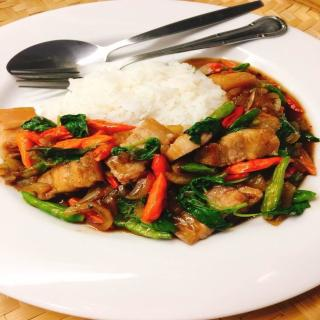carbs: (72, 65, 223, 124)
crispy_pork_rice: (1, 56, 320, 254)
meat: (125, 130, 278, 156), (216, 56, 288, 101), (37, 154, 104, 190), (178, 216, 209, 242), (256, 102, 279, 129), (3, 108, 30, 128)
veg: (187, 102, 256, 134), (22, 189, 82, 223), (180, 188, 228, 222), (267, 156, 287, 218), (118, 218, 172, 240), (181, 162, 225, 187), (153, 153, 168, 224), (231, 158, 299, 173), (16, 130, 34, 169), (60, 113, 88, 138), (89, 117, 132, 132), (118, 196, 148, 217), (27, 116, 53, 130), (35, 130, 71, 140), (297, 190, 308, 217)
